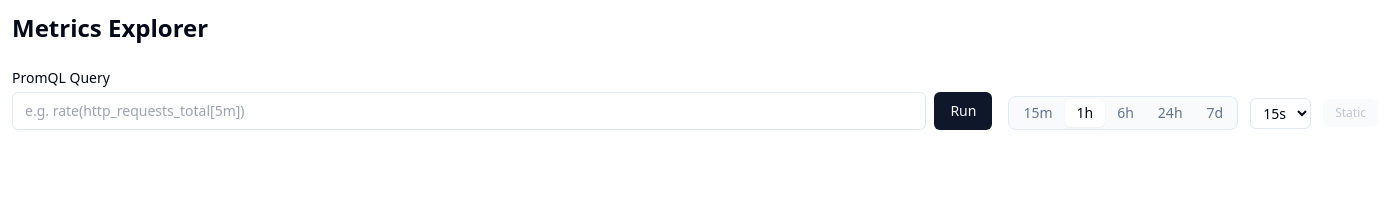
Test case: MetricsExplorerPage › shows error state on API failure
The width and height of the screenshot is (1390, 217).
Step 1. Type "rate(http_requests_total[5m])" into the field labelled "PromQL Query" → [469, 111], box [12,92,926,130]
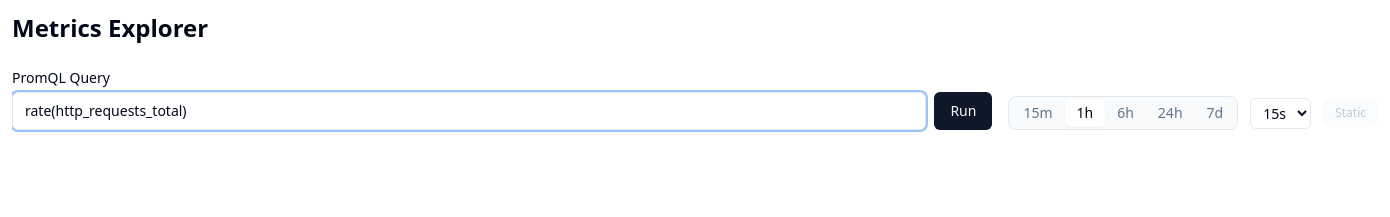
Step 2. Click the button "Run" → [963, 111], box [934,92,992,130]
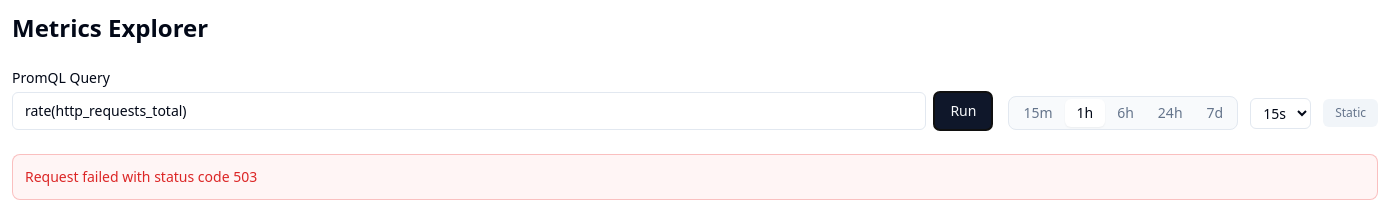
Expected: the text "Request failed with status code 503" is shown, [12,154,1378,200]
